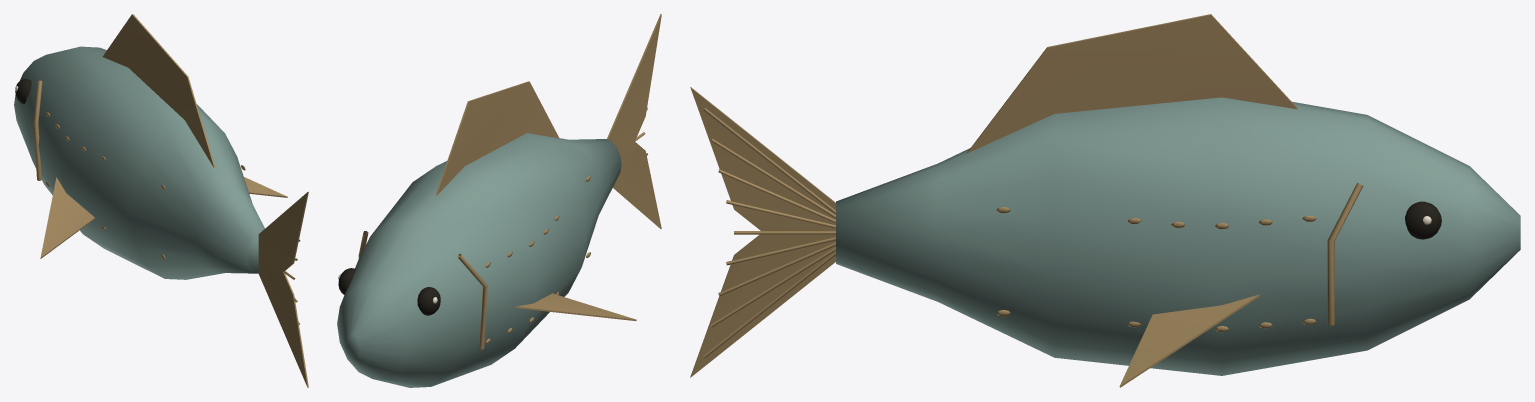
The model's file is fish.glb.
The picture shows the model from 3 angles, left to right: view 1: azimuth 30°, elevation 25°; view 2: azimuth 150°, elevation 25°; view 3: azimuth 270°, elevation 25°; orthographic projection. The views are drawn at different scales.
Parts seen in each view (by area): view 1: streamlined fish, forked caudal fin, eye; view 2: streamlined fish, forked caudal fin, eye; view 3: streamlined fish, forked caudal fin, eye.
Part boxes in pixels (box(x1,y1,x2,y2)): streamlined fish: box(14, 46, 264, 279); forked caudal fin: box(33, 14, 308, 387); eye: box(15, 79, 31, 104); streamlined fish: box(337, 133, 621, 387); forked caudal fin: box(358, 14, 661, 349); eye: box(338, 268, 440, 315); streamlined fish: box(836, 97, 1520, 375); forked caudal fin: box(690, 14, 1363, 387); eye: box(1405, 201, 1441, 239).
Size of the model in its own units: 0.5805 by 0.55 by 1.14.
